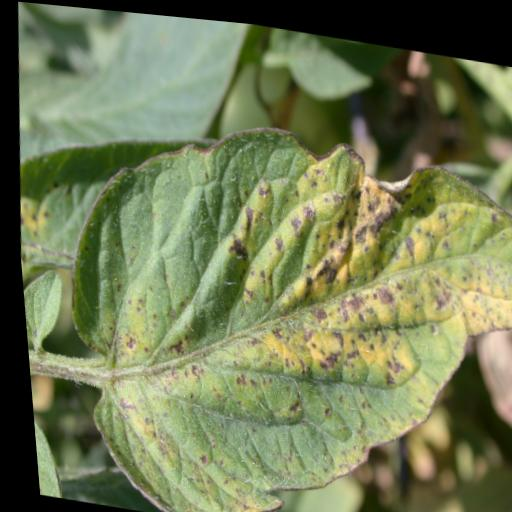Bacterial Spot: (34, 85, 512, 512)
